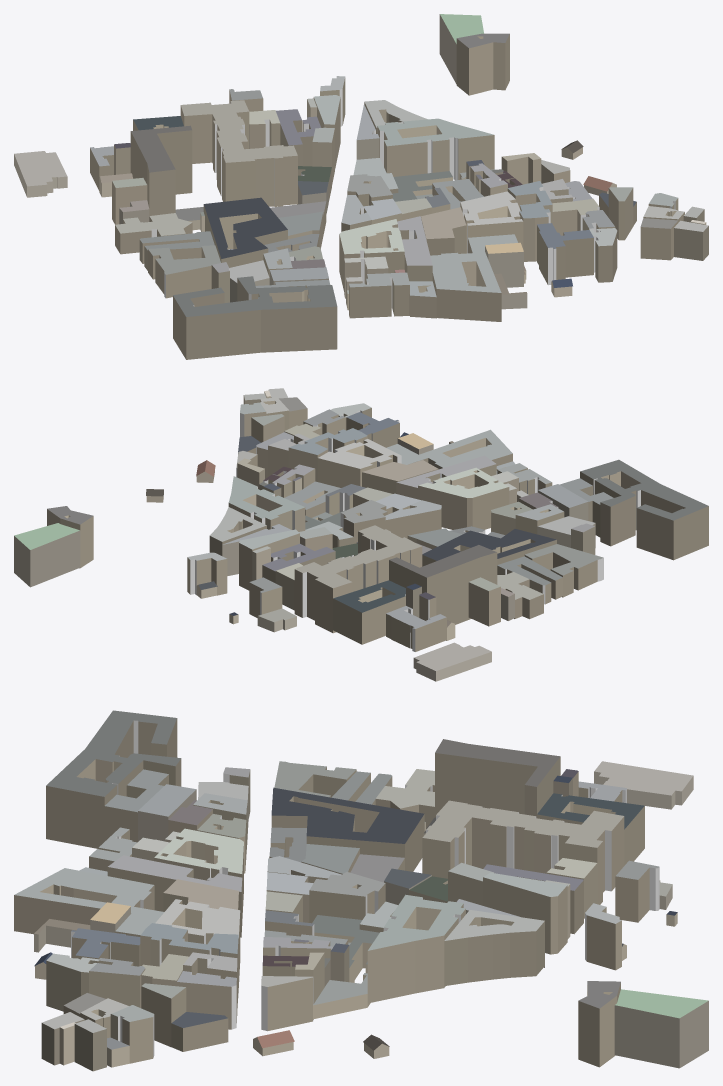
3 views of the same model, one above another, from view 1: azimuth 30°, elevation 25°; view 2: azimuth 150°, elevation 25°; view 3: azimuth 270°, elevation 25° (orthographic). The views are drawn at different scales.
Visible parts, largest first — view 1: tuile; view 2: tuile; view 3: tuile.
Boxes of the visible parts, left/top/right/bottom form: tuile: left=14, top=14, right=708, bottom=359; tuile: left=14, top=388, right=708, bottom=681; tuile: left=14, top=710, right=708, bottom=1071.
Size of the model in its own units: 298 by 38.18 by 276.
